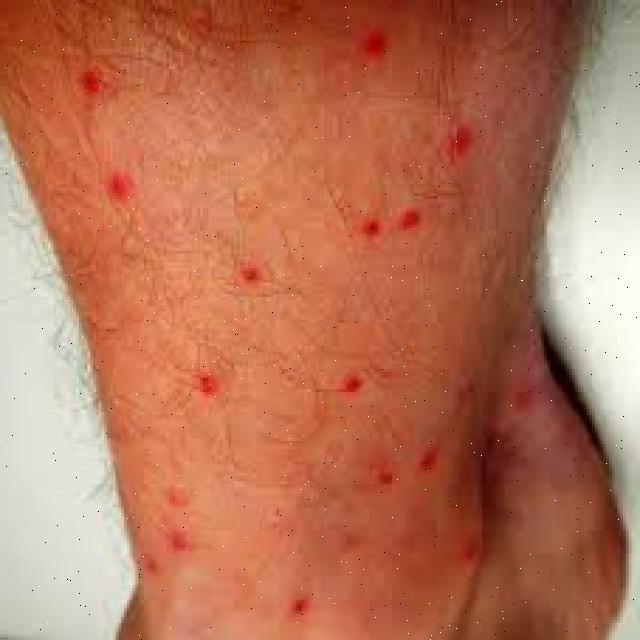kan emici bocekler: (402, 40, 534, 196), (197, 222, 289, 326), (44, 59, 157, 125), (334, 204, 455, 254), (220, 583, 378, 617), (306, 351, 383, 413), (440, 357, 506, 429), (172, 356, 259, 407), (89, 167, 165, 205), (334, 463, 428, 492), (419, 447, 463, 493), (172, 525, 225, 561), (173, 478, 235, 506), (170, 519, 204, 569)
